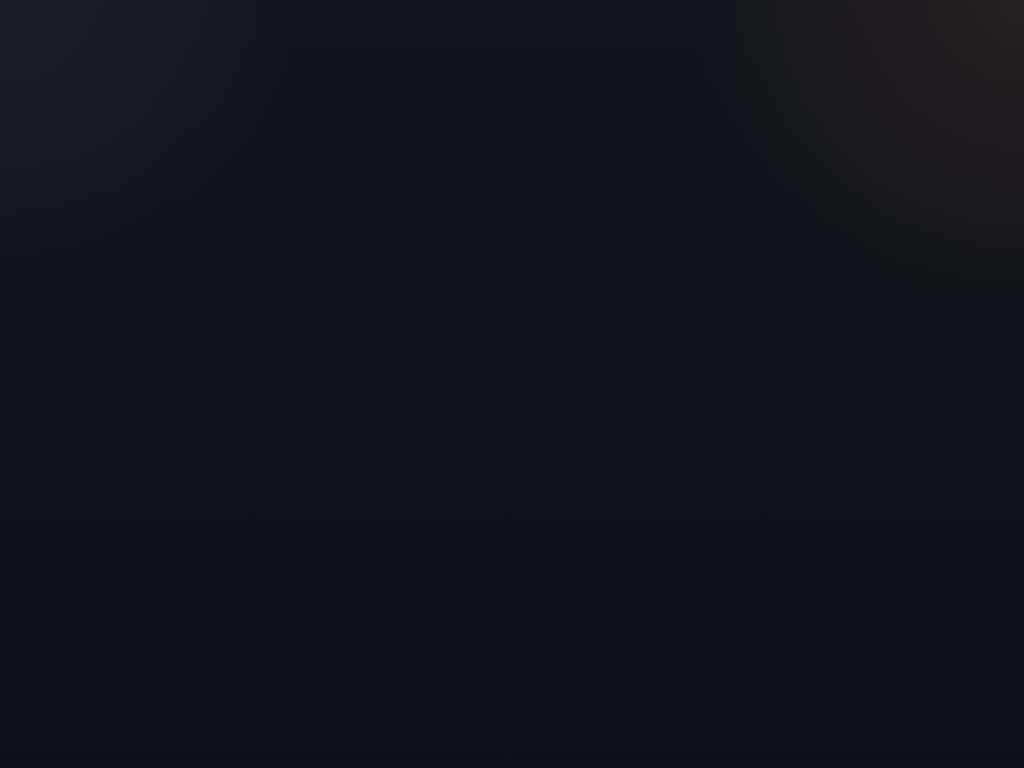
Test: CommandPalette › reveals hidden commands when matched by alias
Press /
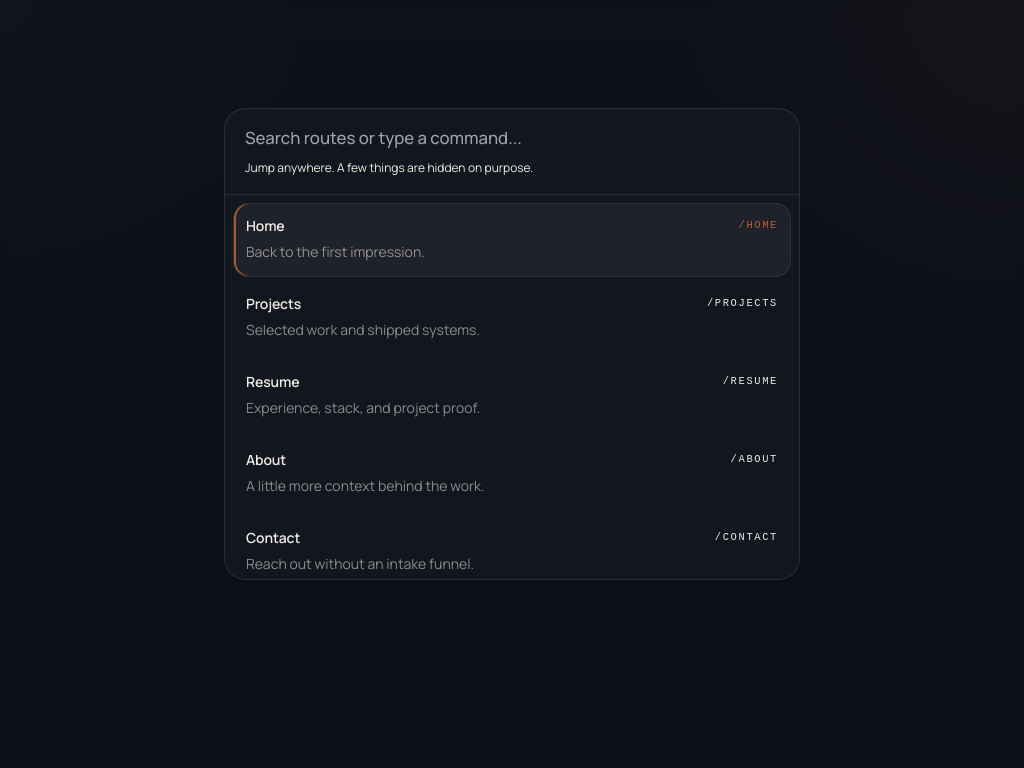
Type "sudo" into the field at (512, 137), box [245,124,779,150]
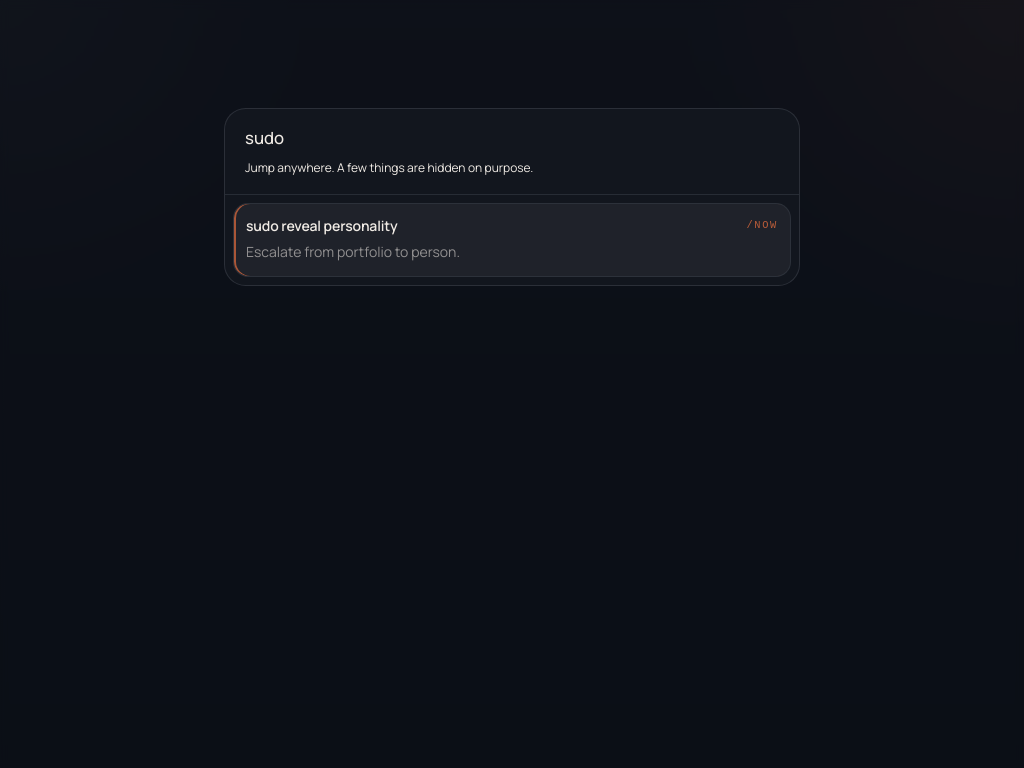
Expected: the button "sudo reveal personality" is shown, [233,203,791,277]
